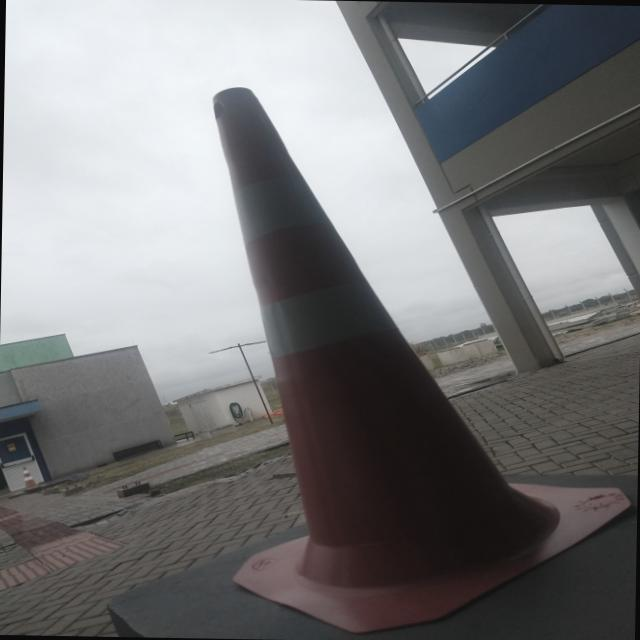cone: (180, 64, 577, 602)
